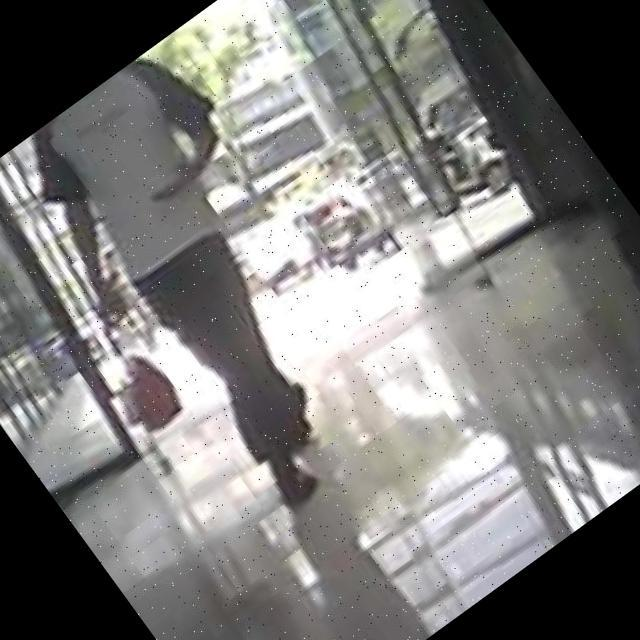person: (0, 41, 427, 528)
